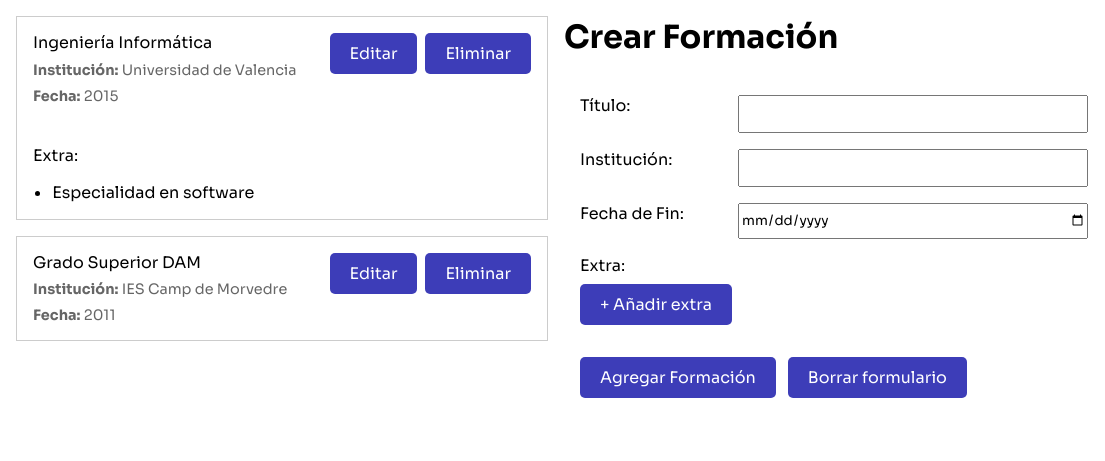
Scenario: <Formacion /> › «Borrar formulario» deja todos los campos vacíos
Type "Máster en IA" into the field labelled "Título:" at (913, 114), box x1=738 y1=95 x2=1088 y2=133
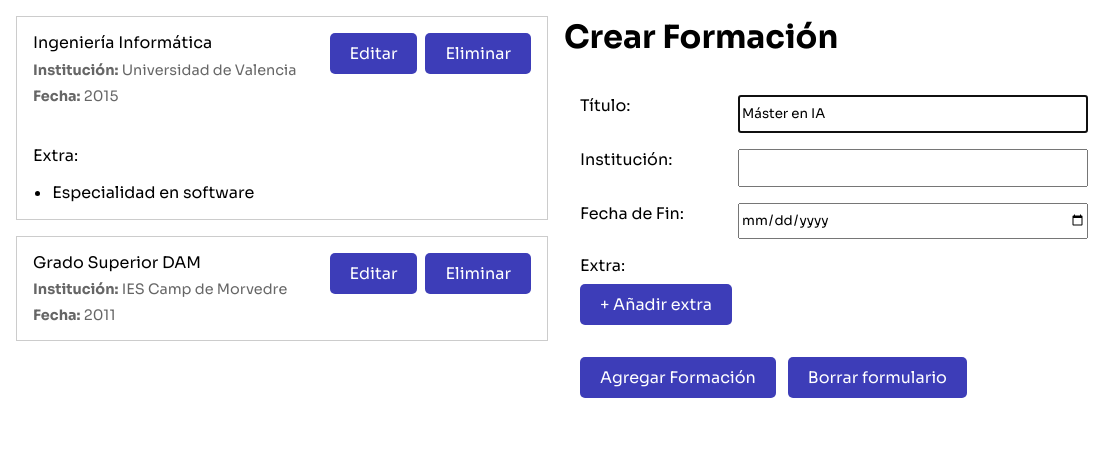
Type "UNED" into the field labelled "Institución:" at (913, 168), box x1=738 y1=149 x2=1088 y2=187
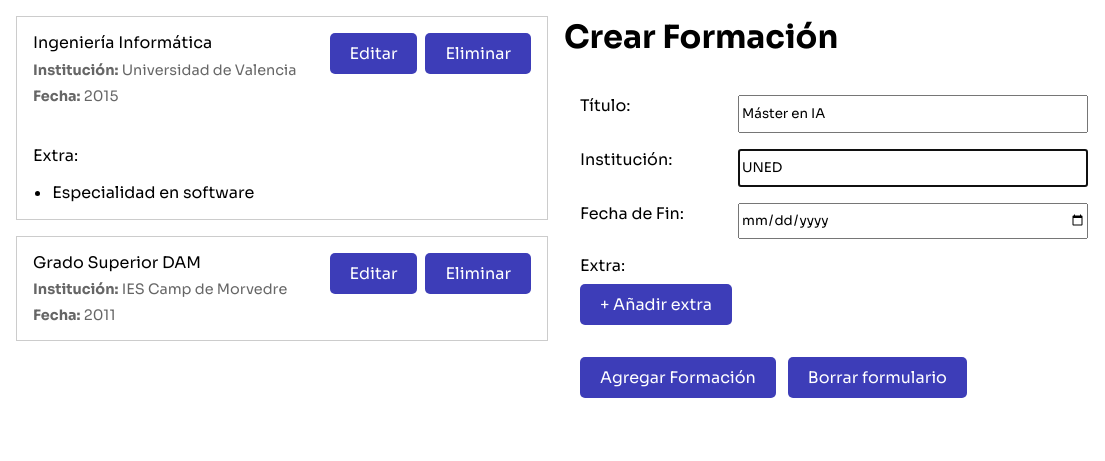
Click the button "+ Añadir extra" at (656, 304), box x1=580 y1=284 x2=732 y2=325
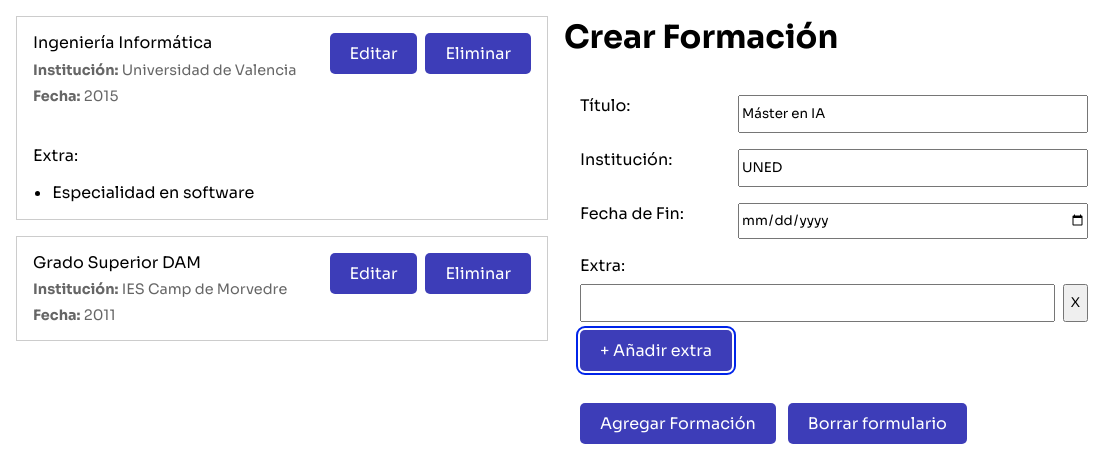
Type "Especialización en Machine Learning" into the field named "Extra 1" at (817, 303), box x1=580 y1=284 x2=1055 y2=322
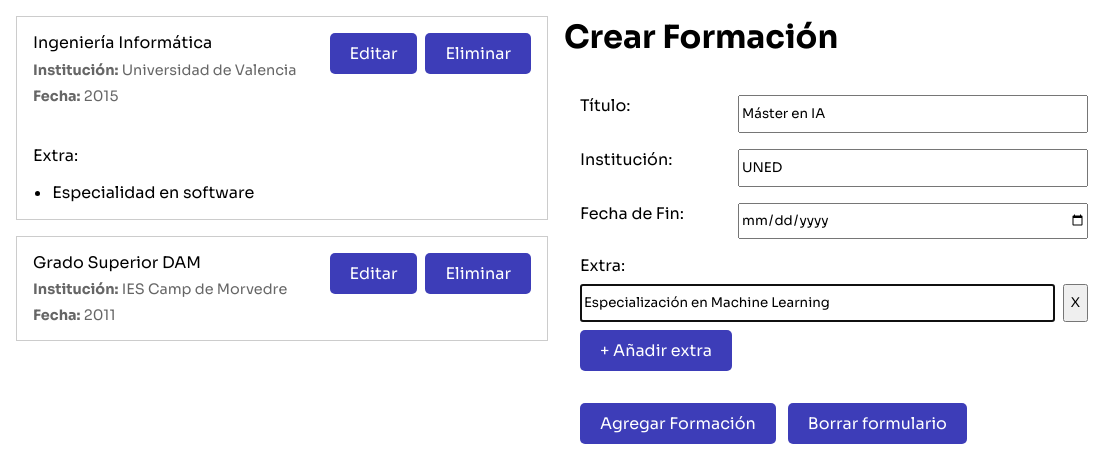
Type "2024-06-30" into the date field labelled "Fecha de Fin:" at (913, 221), box x1=738 y1=203 x2=1088 y2=239
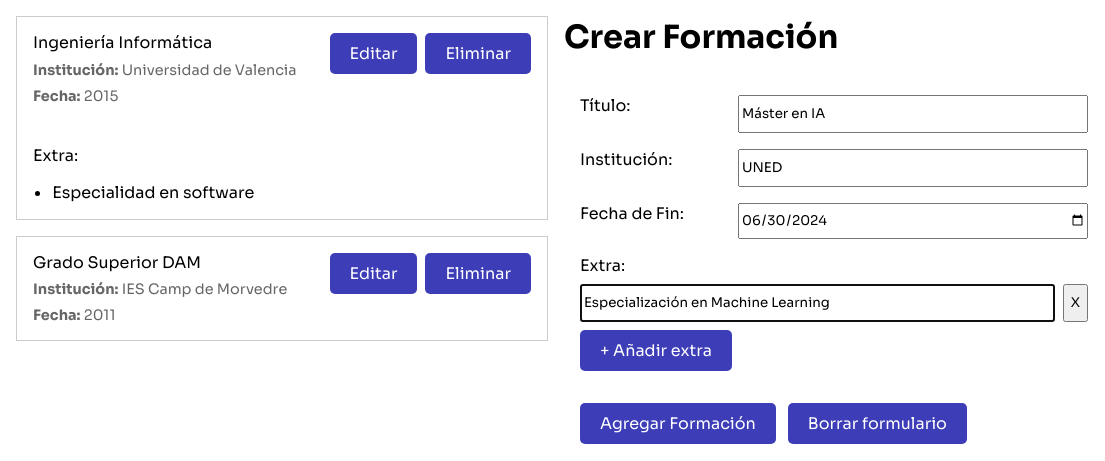
Click the button "Borrar formulario" at (877, 423), box x1=788 y1=403 x2=967 y2=444
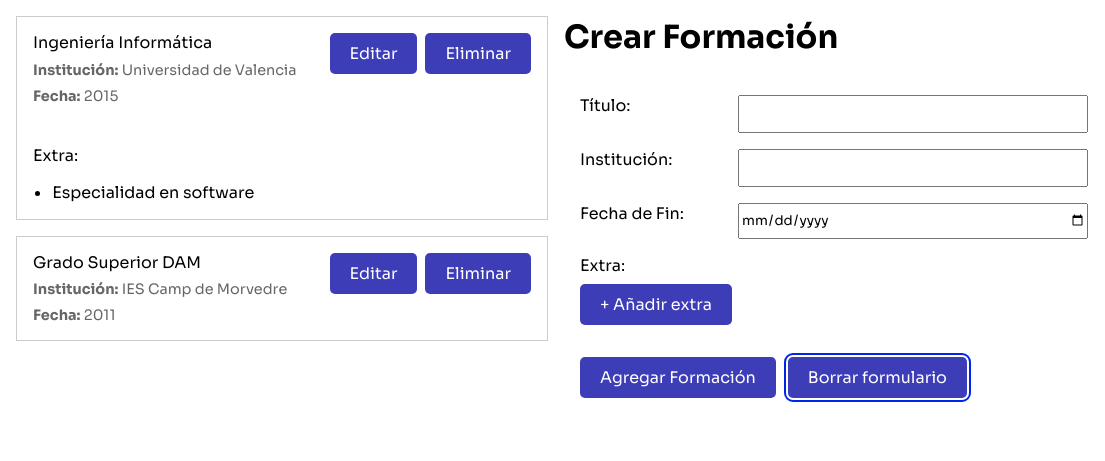
Result: the field labelled "Título:" is empty at x1=738 y1=95 x2=1088 y2=133
Result: the field labelled "Institución:" is empty at x1=738 y1=149 x2=1088 y2=187
Result: the date field labelled "Fecha de Fin:" is empty at x1=738 y1=203 x2=1088 y2=239
